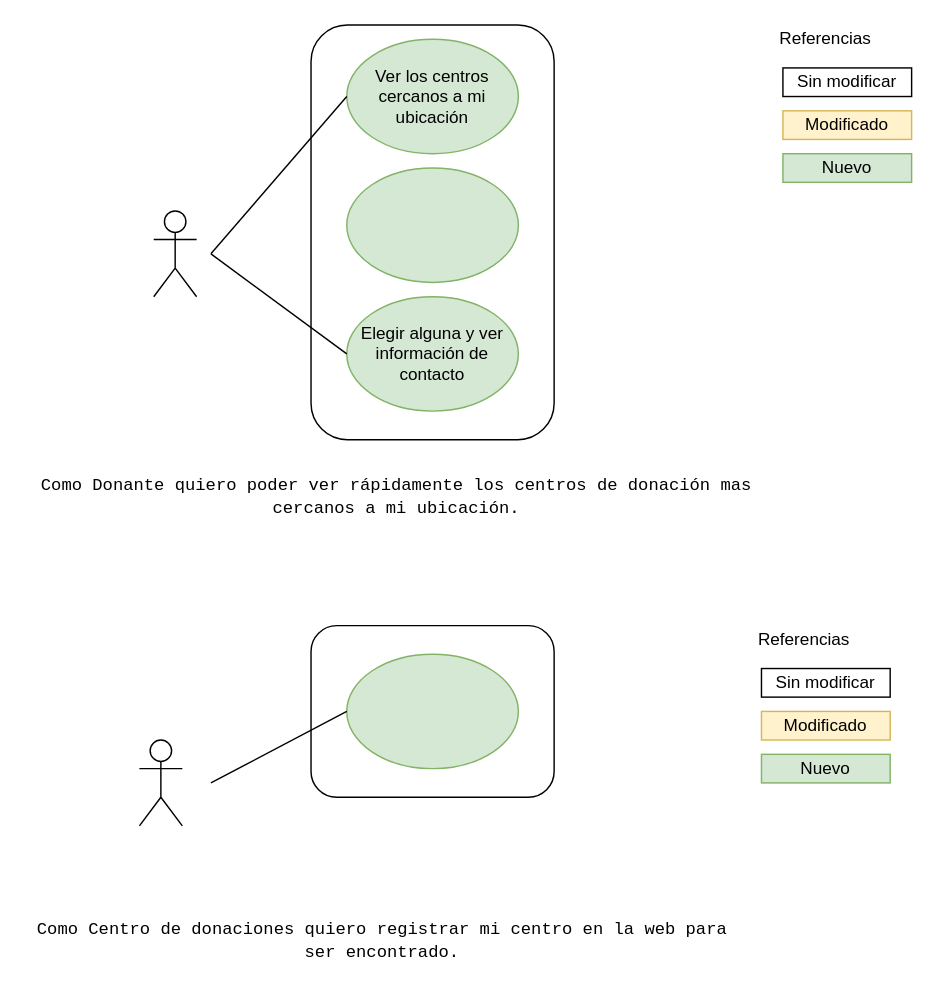
Some shapes in this 937 by 1004 pixel diagram are drawn without their labels. The box of each missing label's shape, as (x1, y1, x2, y2) in pixels:
Centro de donaciones: (138, 739, 182, 826)
Donante: (152, 209, 197, 297)
Registrar el centro: (345, 653, 518, 769)
Ver una lista de todos los centros cercanos: (345, 167, 518, 282)
